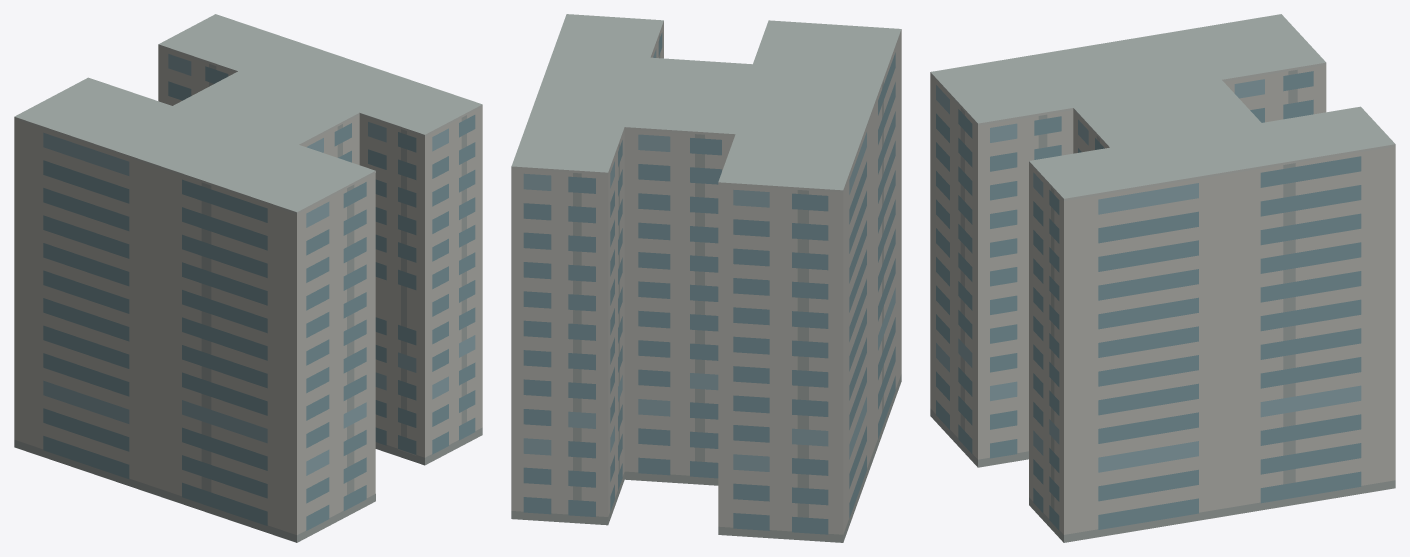
Rendered from residential-b3153c46-1273-4de7-af51-fc58f7687f2a.glb.
The picture shows the model from 3 angles, left to right: view 1: azimuth 30°, elevation 25°; view 2: azimuth 150°, elevation 25°; view 3: azimuth 270°, elevation 25°; orthographic projection. The views are drawn at different scales.
Visible parts, largest first — view 1: residential-b3153c46-1273-4de7-af51-fc58f7687f2a.tmp; view 2: residential-b3153c46-1273-4de7-af51-fc58f7687f2a.tmp; view 3: residential-b3153c46-1273-4de7-af51-fc58f7687f2a.tmp.
Boxes of the visible parts, x1,y1,x2,y2 form: residential-b3153c46-1273-4de7-af51-fc58f7687f2a.tmp: (14,14,482,542); residential-b3153c46-1273-4de7-af51-fc58f7687f2a.tmp: (511,14,901,542); residential-b3153c46-1273-4de7-af51-fc58f7687f2a.tmp: (930,14,1395,542).
Bounding box in the file's own units: 40.33 × 35 × 42.9.
